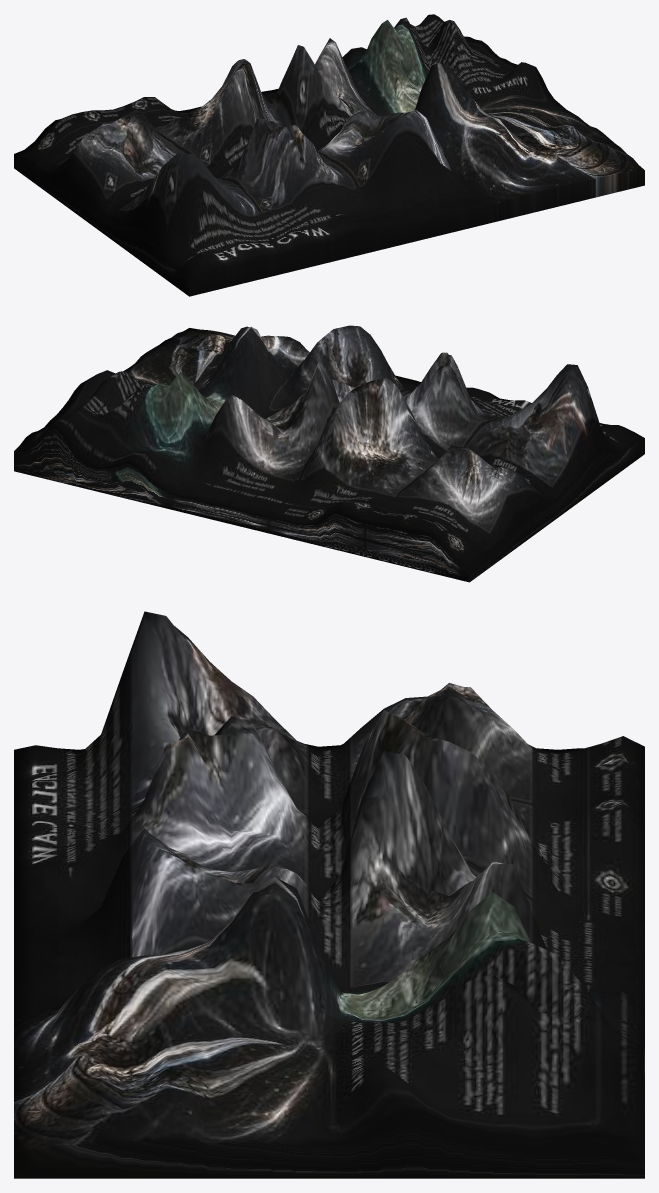
Rendered from CUL_39_Eagle_Claw.glb.
3 renders of one model, top to bottom at view 1: azimuth 30°, elevation 25°; view 2: azimuth 150°, elevation 25°; view 3: azimuth 270°, elevation 25°, orthographic. The views are drawn at different scales.
Visible parts, largest first — view 1: CUL_39_Eagle_Claw; view 2: CUL_39_Eagle_Claw; view 3: CUL_39_Eagle_Claw.
Boxes of the visible parts, box(x1,y1,x2,y2) form: CUL_39_Eagle_Claw: box(14, 14, 644, 296); CUL_39_Eagle_Claw: box(14, 325, 644, 582); CUL_39_Eagle_Claw: box(14, 611, 644, 1178).
Size of the model in its own units: 2 by 0.51 by 1.33.
1 material, 1 textured.
